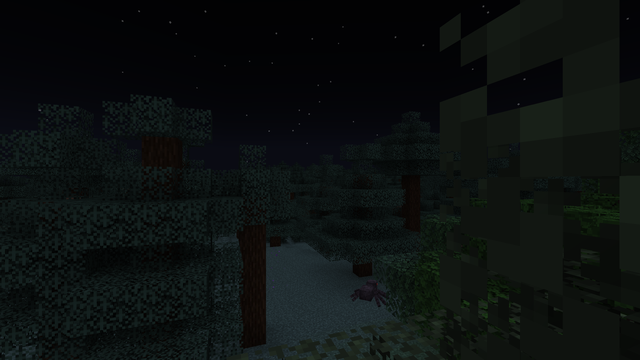araignees: (352, 277, 383, 306)
